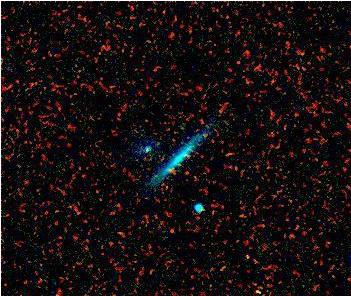star: (188, 101, 218, 131)
